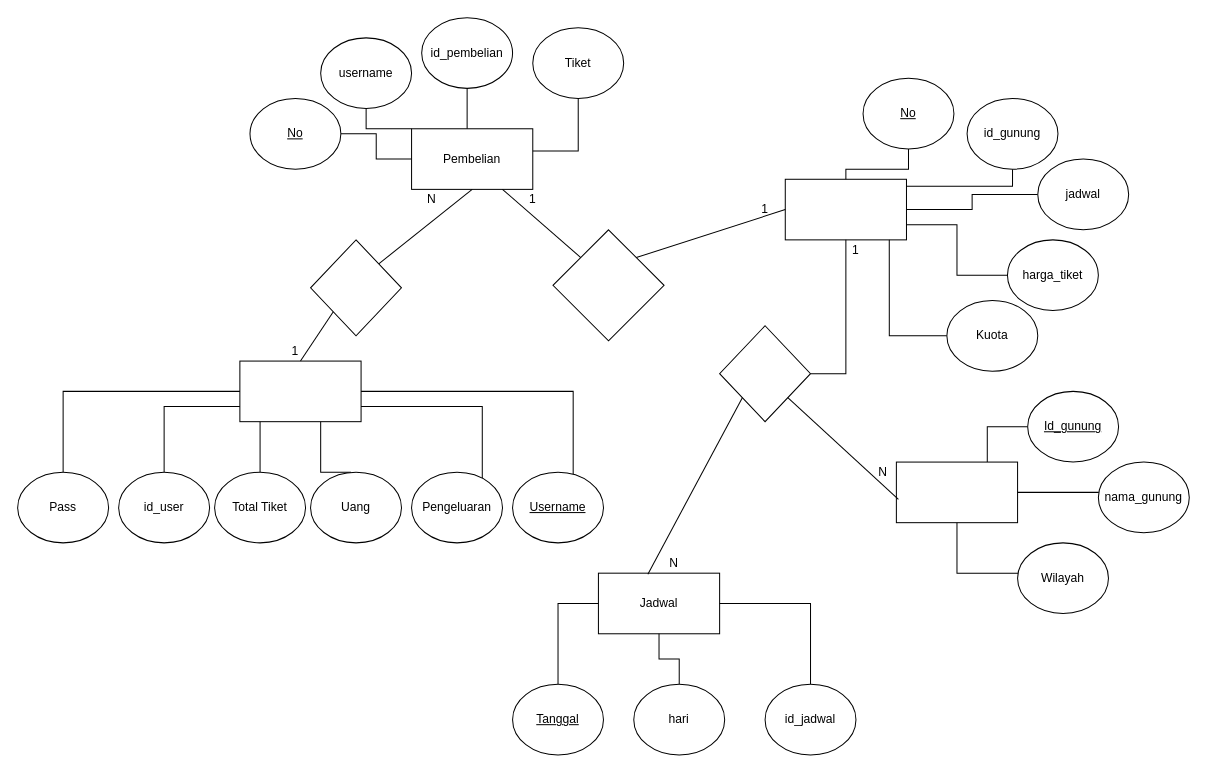
The diagram is 1207 pixels wide and 773 high, and some of its shapes have lost their labels. Here are the shapes that lost their labels. From the top down, the centre of each, then its label:
At [845,209]: "List".
At [355,287]: "Bertransaksi".
At [608,285]: "Pembelian Tiket Gunung".
At [300,391]: "Keanggotaan".
At [765,373]: "Memiliki".
At [956,492]: "Gunung".
